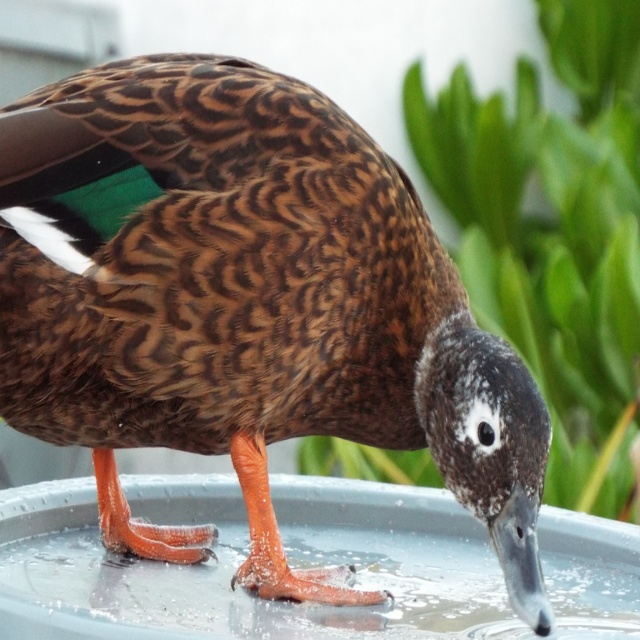Duck: (0, 23, 535, 615)
